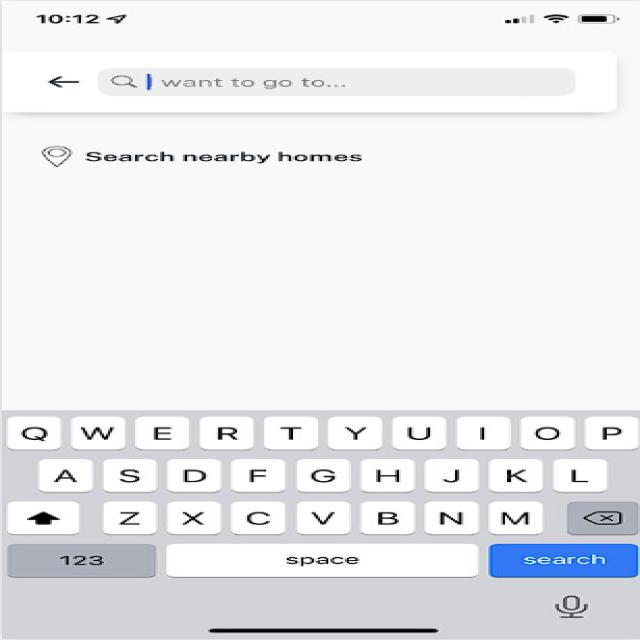icon button: (15, 59, 99, 95)
input: (80, 56, 616, 101)
text: (36, 135, 389, 174)
